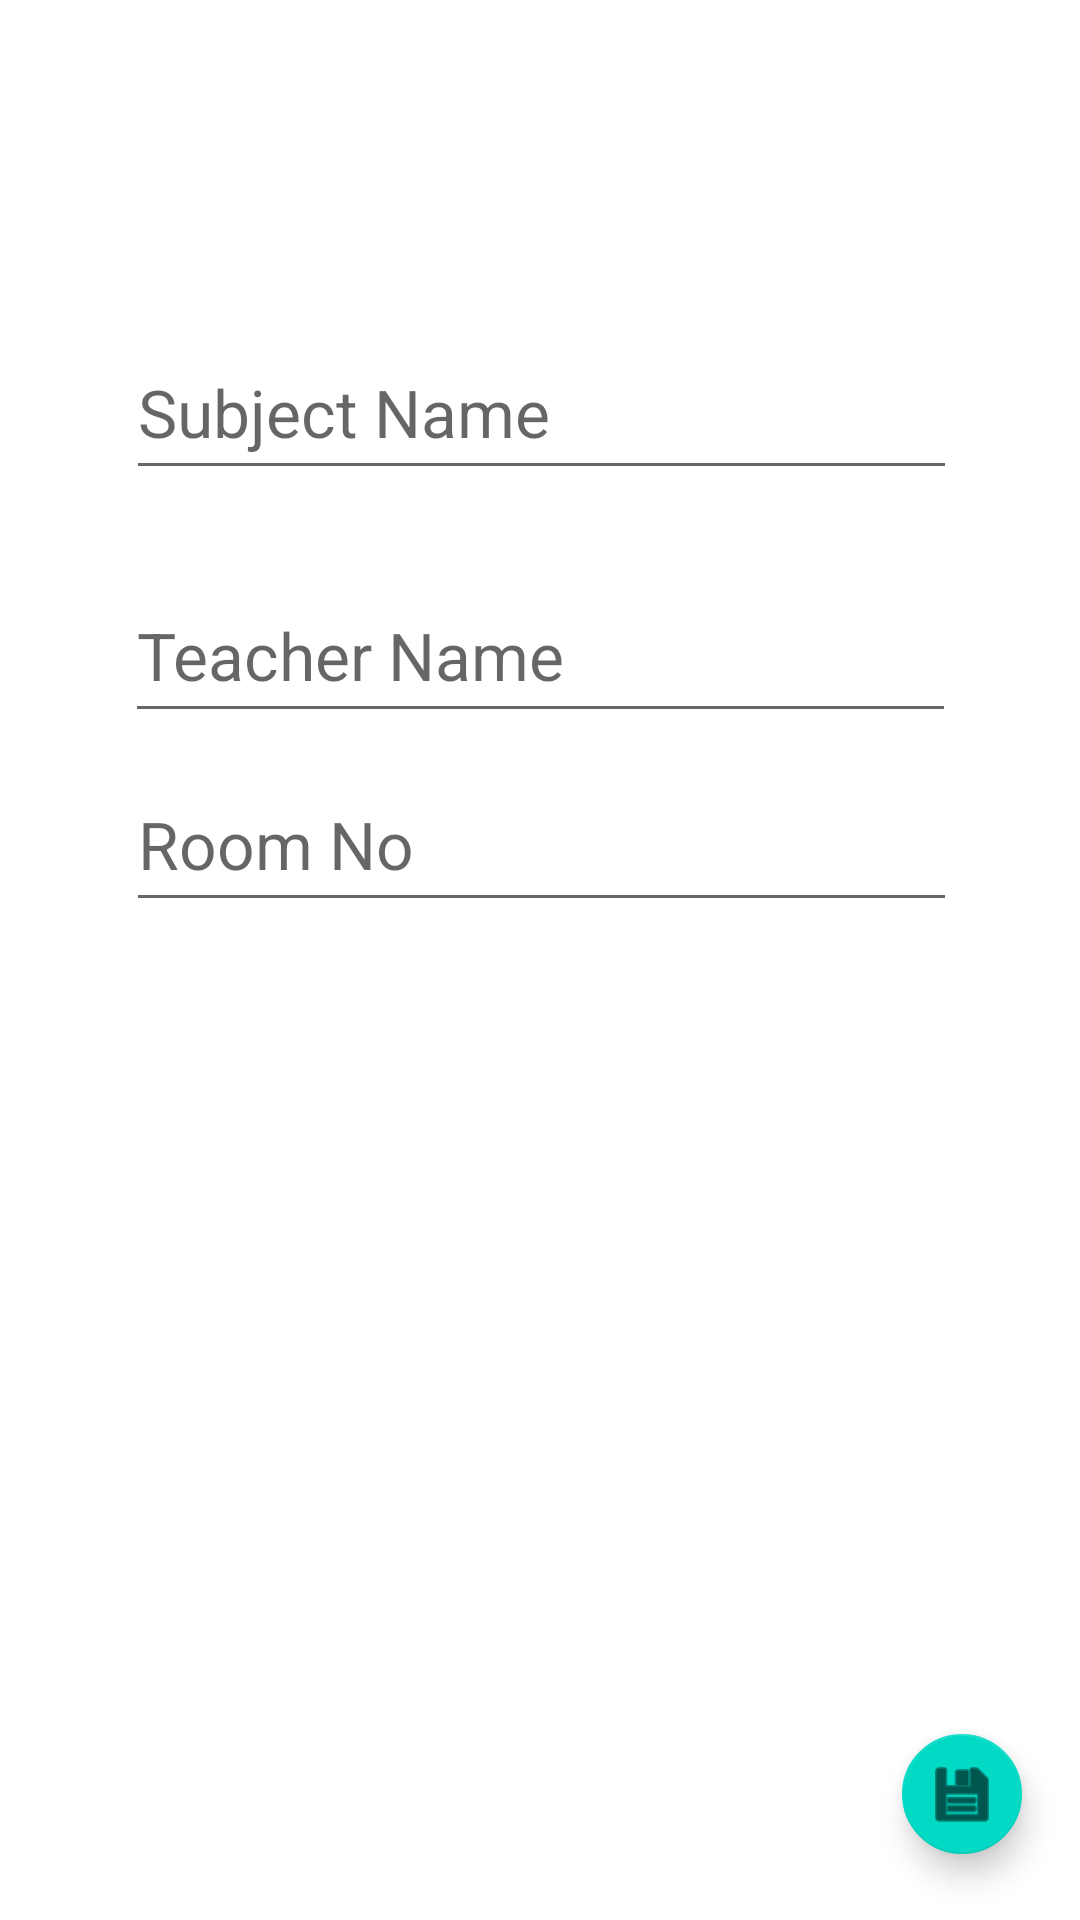

Where to tap for icons on this 1080px x 1920px app screen, as point (x, y):
save: point (963, 1800)
